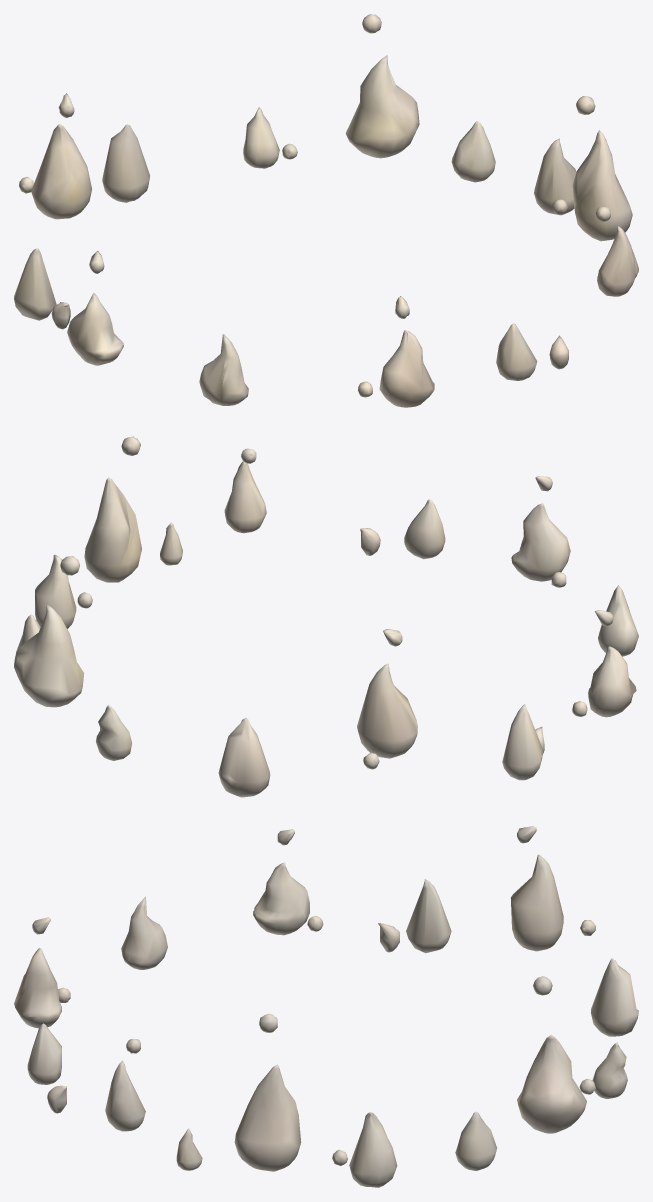
File: fuego_1.glb
The picture shows the model from 3 angles, top to bottom: view 1: azimuth 30°, elevation 25°; view 2: azimuth 150°, elevation 25°; view 3: azimuth 270°, elevation 25°; orthographic projection.
Visible parts, largest first — view 1: tripo_node_23a98b34-2b98-449b-bf1c-b1286861d991; view 2: tripo_node_23a98b34-2b98-449b-bf1c-b1286861d991; view 3: tripo_node_23a98b34-2b98-449b-bf1c-b1286861d991.
Boxes of the visible parts, bbox=[...] form: tripo_node_23a98b34-2b98-449b-bf1c-b1286861d991: bbox=[14, 14, 638, 407]; tripo_node_23a98b34-2b98-449b-bf1c-b1286861d991: bbox=[14, 436, 638, 797]; tripo_node_23a98b34-2b98-449b-bf1c-b1286861d991: bbox=[14, 826, 638, 1187].
Bounding box in the file's own units: 0.998 × 0.291 × 0.9902.
Materials: 1 (1 with a texture image).
